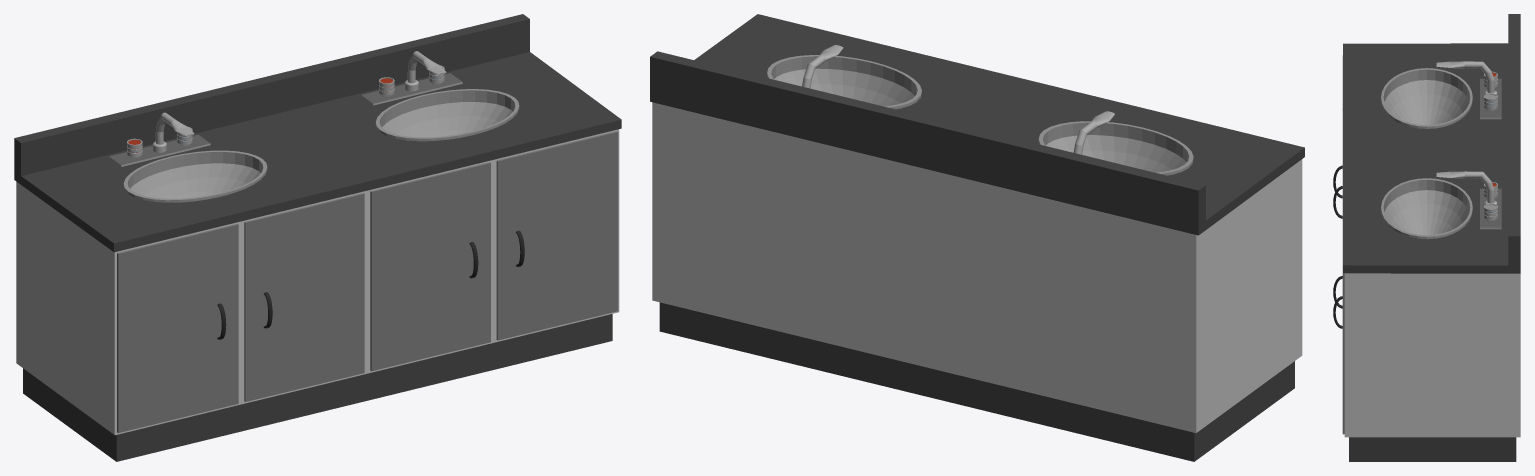
The model's file is Multi Sink #1.fbx.
The picture shows the model from 3 angles, left to right: view 1: azimuth 30°, elevation 25°; view 2: azimuth 150°, elevation 25°; view 3: azimuth 270°, elevation 25°; orthographic projection. The views are drawn at different scales.
Parts seen in each view (by area): view 1: Multi Sink #1; view 2: Multi Sink #1; view 3: Multi Sink #1.
Part boxes in pixels (left/top/right/bottom): Multi Sink #1: left=14, top=14, right=621, bottom=461; Multi Sink #1: left=650, top=14, right=1304, bottom=461; Multi Sink #1: left=1333, top=14, right=1520, bottom=461.
Size of the model in its own units: 228 by 113 by 81.17.
1 material, 1 textured.
